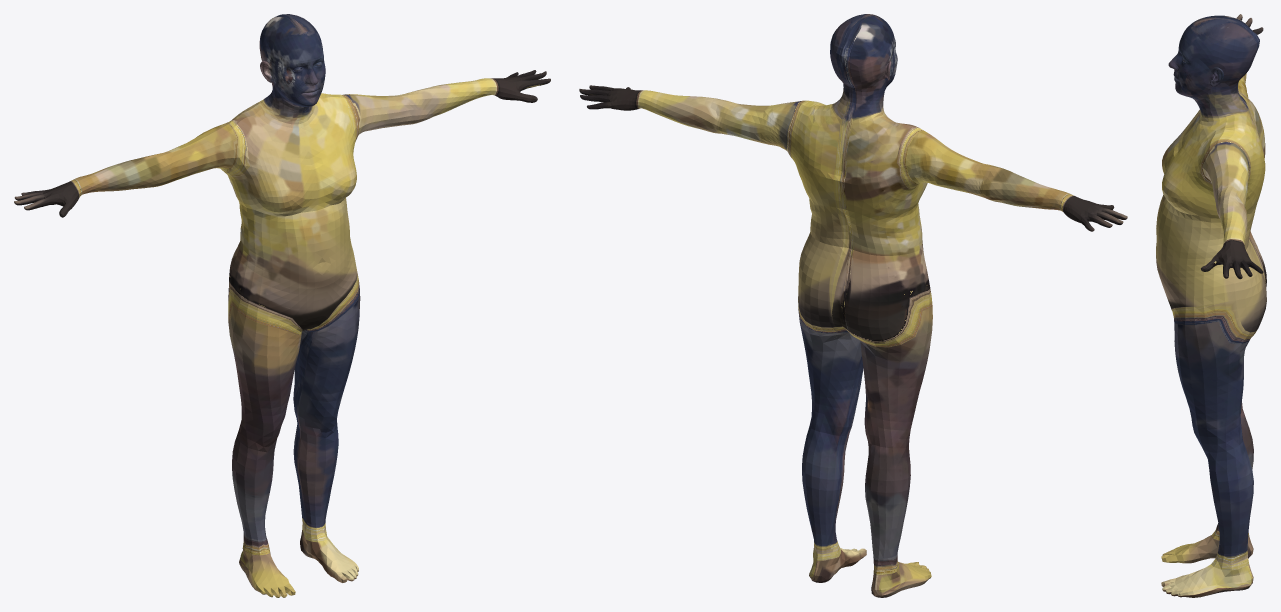
Rendered from my_avatar.glb.
3 renders of one model, left to right at view 1: azimuth 30°, elevation 25°; view 2: azimuth 150°, elevation 25°; view 3: azimuth 270°, elevation 25°, orthographic. The views are drawn at different scales.
Parts seen in each view (by area): view 1: world; view 2: world; view 3: world.
Part boxes in pixels (box(x1,y1,x2,y2)): world: box(14, 14, 550, 597); world: box(579, 14, 1127, 597); world: box(1156, 14, 1266, 597).
Size of the model in its own units: 1.77 by 1.75 by 0.316.
Materials: 1 (1 with a texture image).
